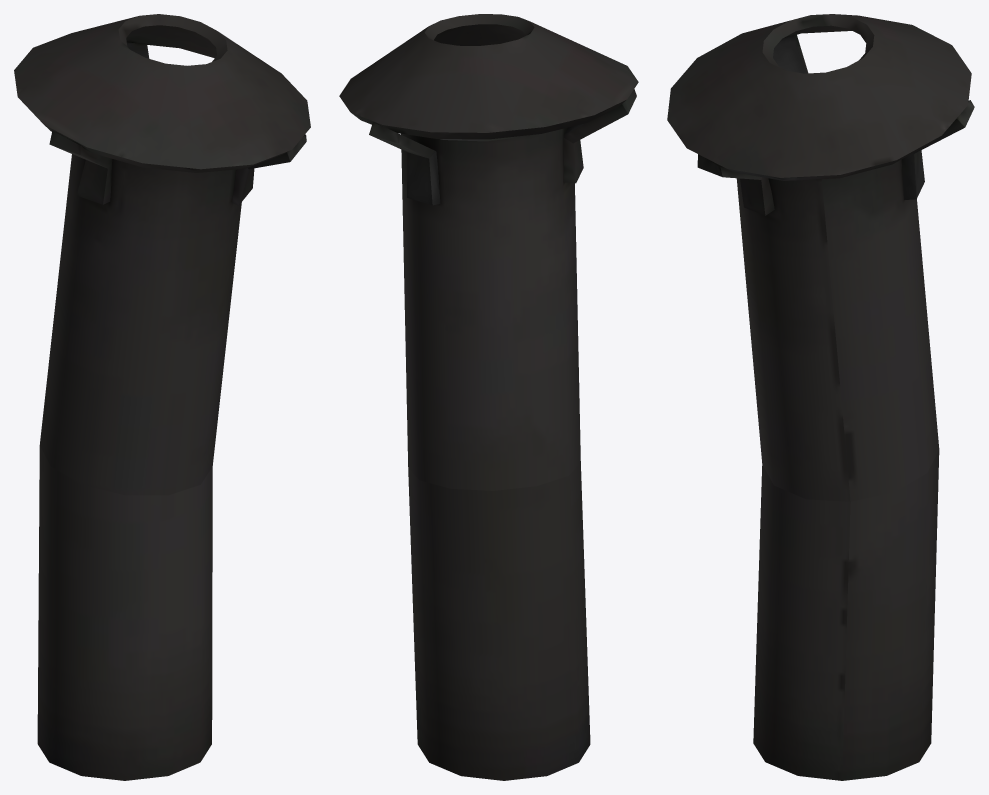
The picture shows the model from 3 angles, left to right: view 1: azimuth 30°, elevation 25°; view 2: azimuth 150°, elevation 25°; view 3: azimuth 270°, elevation 25°; orthographic projection. The views are drawn at different scales.
Visible parts, largest first — view 1: body0_model0_lod0_mesh0; view 2: body0_model0_lod0_mesh0; view 3: body0_model0_lod0_mesh0.
Boxes of the visible parts, box(x1,y1,x2,y2) form: body0_model0_lod0_mesh0: box(14, 14, 310, 780); body0_model0_lod0_mesh0: box(339, 14, 638, 780); body0_model0_lod0_mesh0: box(667, 14, 974, 780).
Bounding box in the file's own units: 27.5 × 72.29 × 27.78.
1 material, 1 textured.
